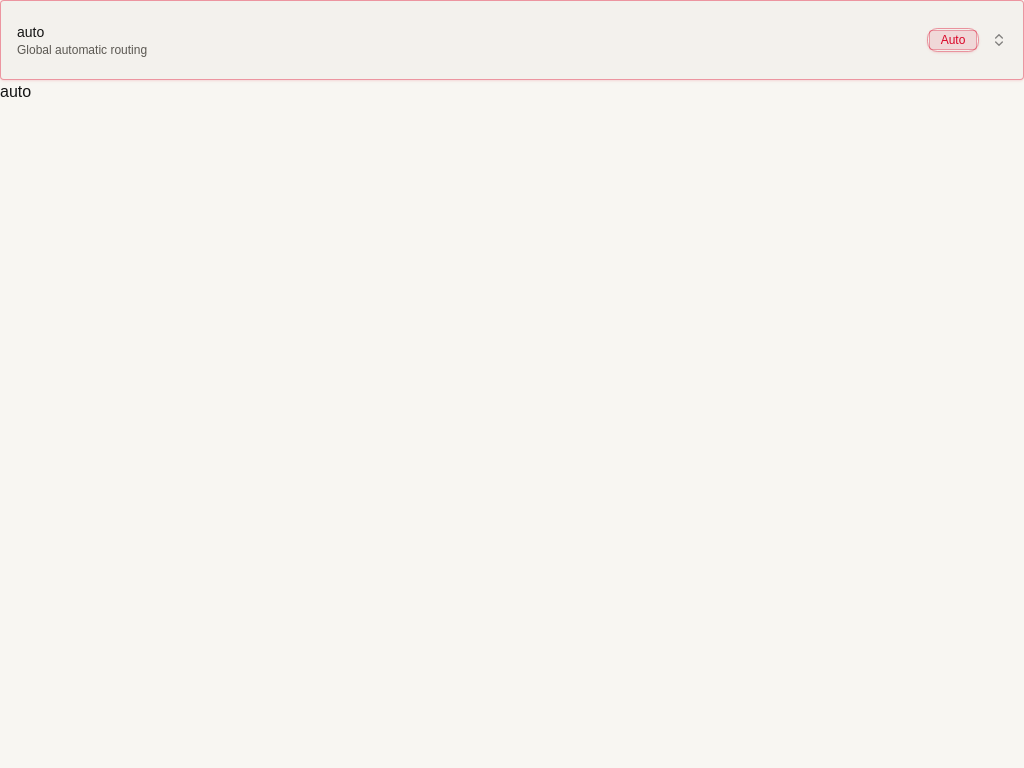
API key group combobox Auto effect › preserves the static Auto treatment but omits moving layers for reduced motion
expect the text "Auto" is shown: met, box [941,32,965,48]
What coordinates should you click on to do the following:
click the dropdown
I would click on:
 (82, 50)
Its box is [0,0,1023,80].
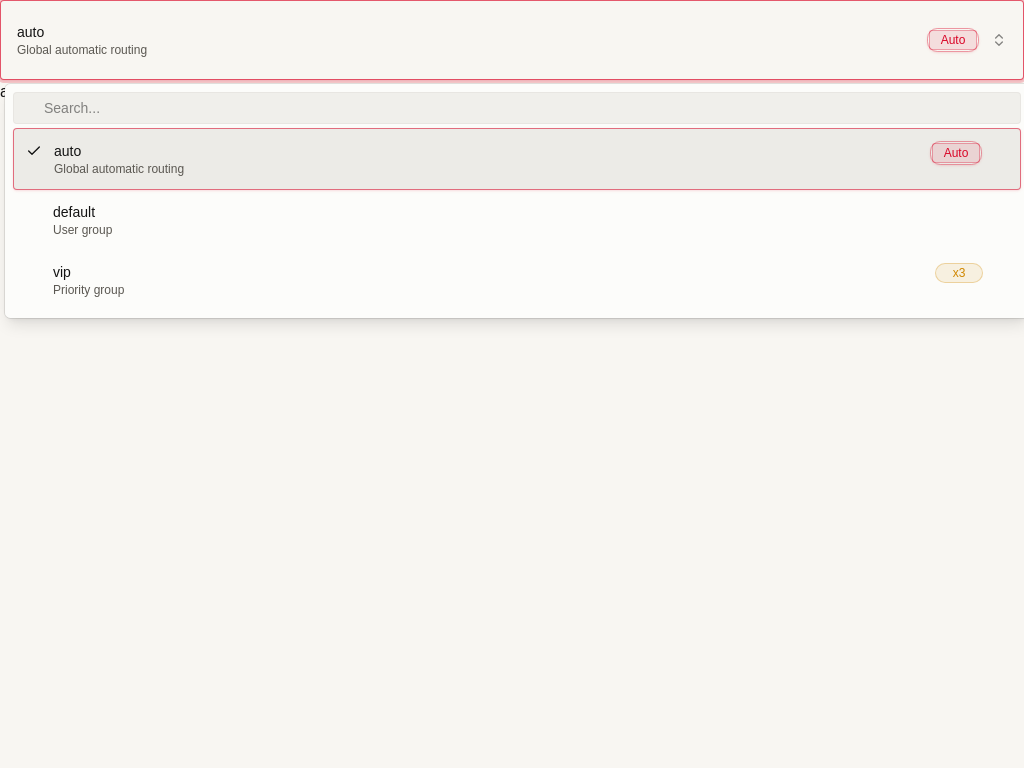
expect the 2nd text "Auto" is shown: met, box [944,145,968,161]
